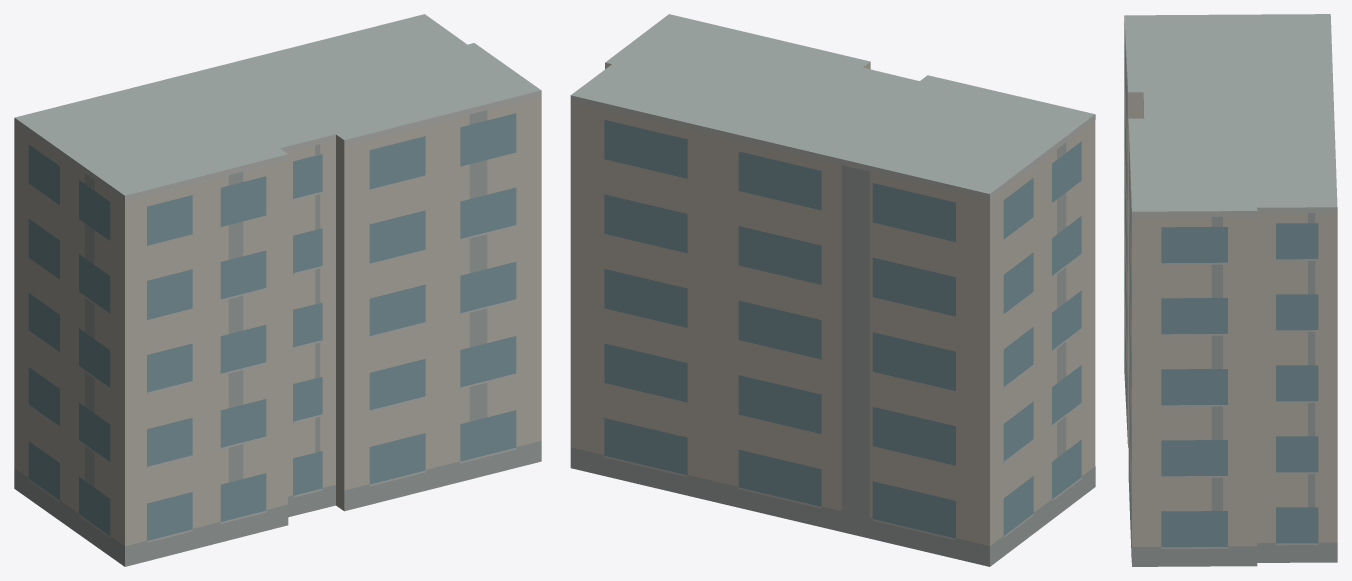
Rendered from survey-upis-32761203.glb.
3 views of the same model, side by side, from view 1: azimuth 30°, elevation 25°; view 2: azimuth 150°, elevation 25°; view 3: azimuth 270°, elevation 25° (orthographic). The views are drawn at different scales.
Parts seen in each view (by area): view 1: survey-upis-32761203.tmp; view 2: survey-upis-32761203.tmp; view 3: survey-upis-32761203.tmp.
Part boxes in pixels (<box>): survey-upis-32761203.tmp: <box>14,14,541,566</box>; survey-upis-32761203.tmp: <box>570,14,1095,566</box>; survey-upis-32761203.tmp: <box>1124,14,1337,566</box>.
Bounding box in the file's own units: 18.21 × 15.25 × 8.3.
